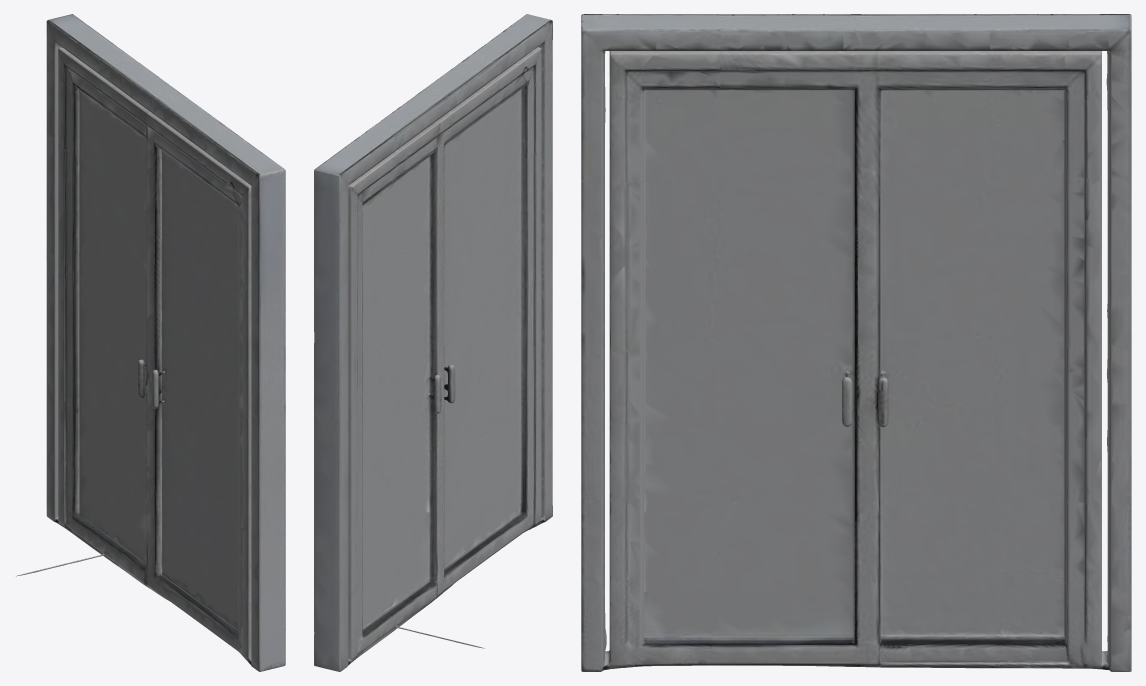
File: 双开玻璃门.glb
3 views of the same model, side by side, from view 1: azimuth 30°, elevation 25°; view 2: azimuth 150°, elevation 25°; view 3: azimuth 270°, elevation 25° (orthographic). The views are drawn at different scales.
Visible parts, largest first — view 1: tripo_node_7bdd3d43-03ab-4ff9-9f06-4cd095e93f02; view 2: tripo_node_7bdd3d43-03ab-4ff9-9f06-4cd095e93f02; view 3: tripo_node_7bdd3d43-03ab-4ff9-9f06-4cd095e93f02.
Boxes of the visible parts, x1,y1,x2,y2 form: tripo_node_7bdd3d43-03ab-4ff9-9f06-4cd095e93f02: (16, 14, 285, 671); tripo_node_7bdd3d43-03ab-4ff9-9f06-4cd095e93f02: (314, 14, 552, 671); tripo_node_7bdd3d43-03ab-4ff9-9f06-4cd095e93f02: (581, 14, 1131, 671).
Size of the model in its own units: 0.2466 by 1 by 0.7771.
1 material, 1 textured.
